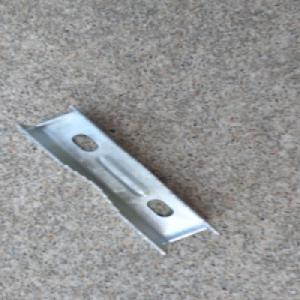ClampPart: (10, 103, 222, 257)
